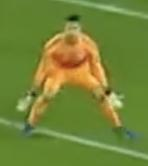goalkeeper: (10, 6, 145, 150)
